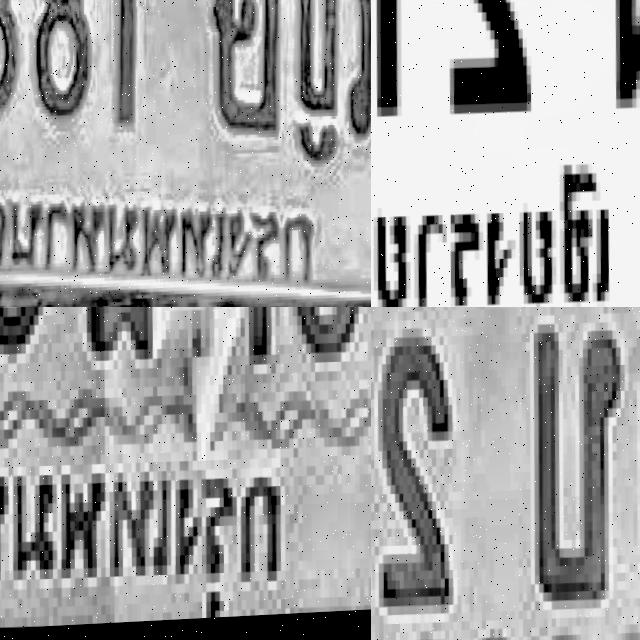license-plate: (0, 307, 371, 640), (0, 0, 371, 307), (371, 307, 640, 640), (371, 0, 640, 307)
